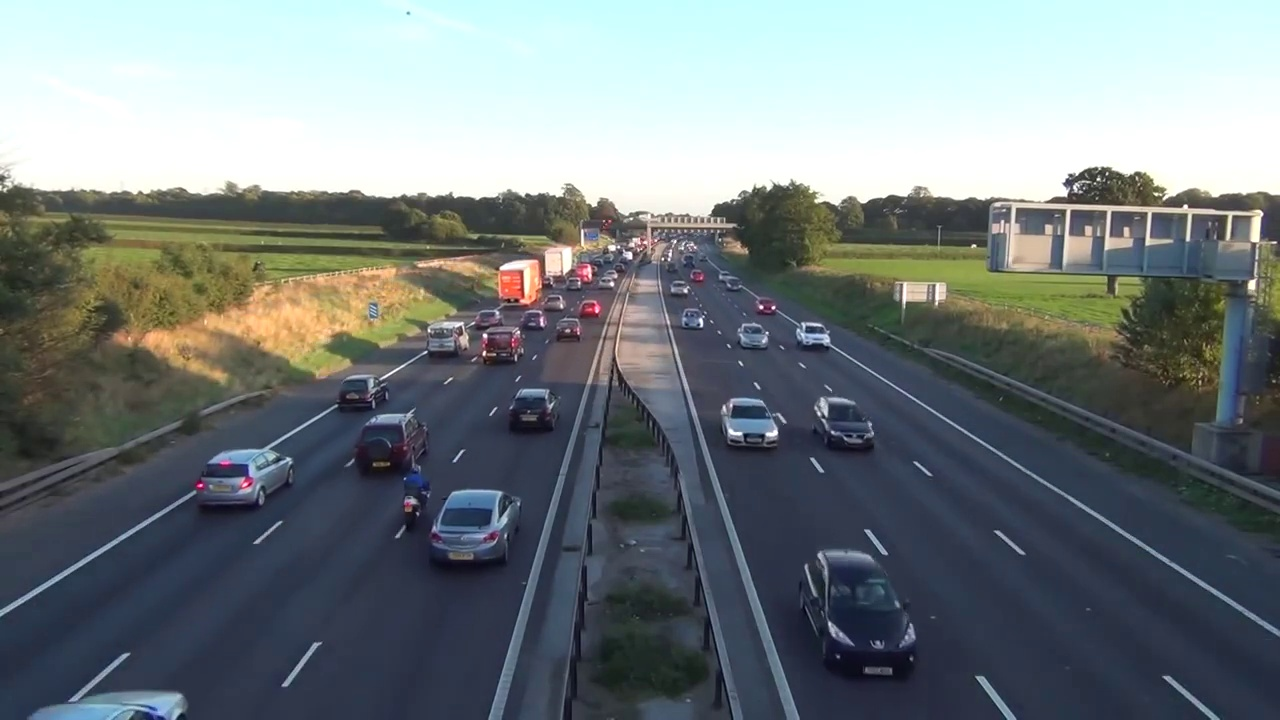bus: (789, 549, 928, 683), (435, 488, 519, 563), (190, 450, 300, 502), (25, 680, 188, 714), (352, 414, 433, 474), (807, 394, 882, 456), (719, 396, 780, 456), (509, 386, 561, 433), (338, 372, 395, 409), (796, 320, 833, 352), (736, 322, 770, 353), (556, 317, 585, 344), (475, 309, 504, 330), (518, 310, 548, 330), (680, 307, 705, 329), (755, 296, 779, 316), (578, 298, 602, 317), (668, 279, 690, 297), (542, 294, 565, 310), (727, 275, 743, 292), (597, 277, 614, 290), (565, 278, 583, 290), (602, 270, 620, 280), (666, 262, 680, 274), (690, 268, 704, 280), (542, 276, 554, 289), (718, 270, 730, 283), (613, 263, 627, 271), (593, 258, 602, 266), (592, 266, 598, 275)
car: (497, 261, 540, 306), (545, 246, 573, 284)
jeep: (398, 464, 431, 530)
lorry: (481, 327, 524, 365), (427, 322, 469, 354), (573, 256, 578, 271)
minibus: (575, 263, 592, 284), (682, 255, 696, 269)
